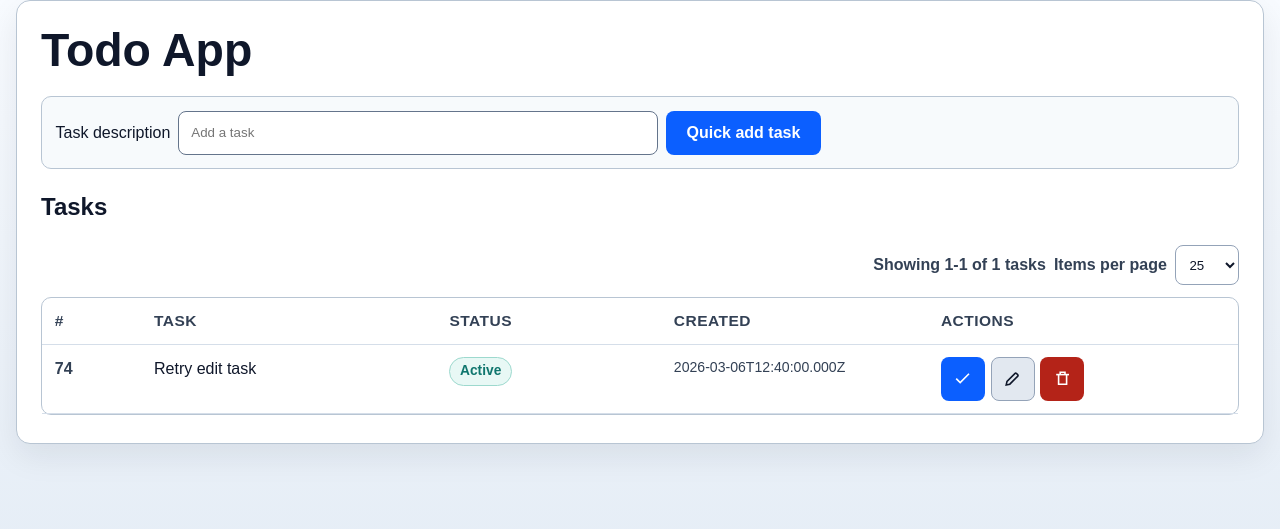
Test: Task list and quick-add flows › rolls back failed inline edit and supports scoped retry
This screenshot has width=1280, height=529.
Expected: the text "Retry edit task" is shown, [154,360,256,377]
Click the button named "Edit task \"Retry edit task\"" at (1012, 379), box [990,357,1034,401]
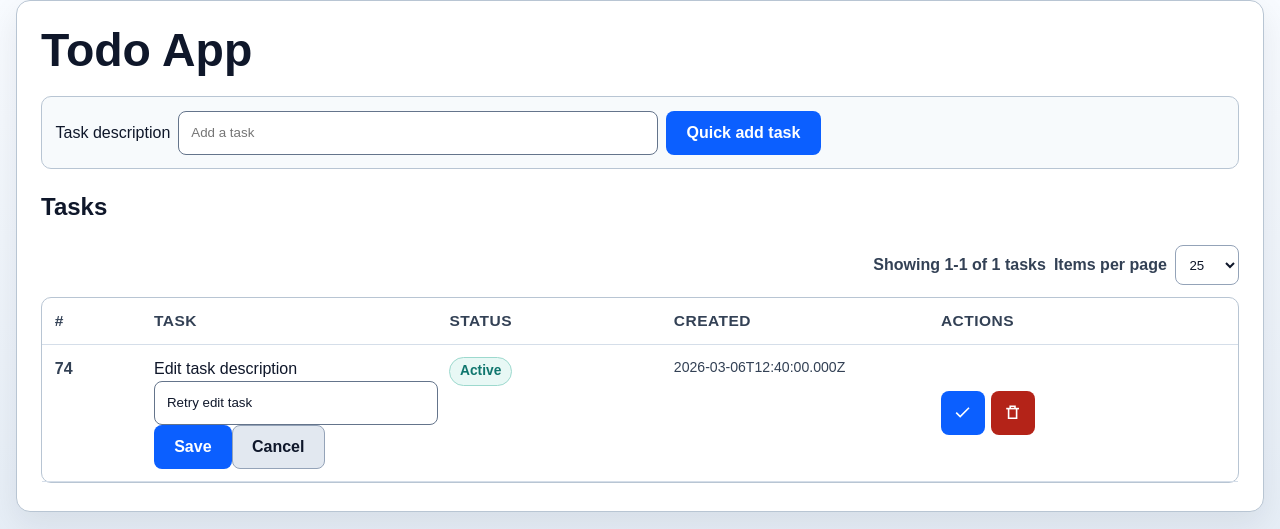
Replace the text in the field named "Edit description for task \"Retry edit task\"" with "Retry edit task updated" at (296, 403), box [154,381,438,425]
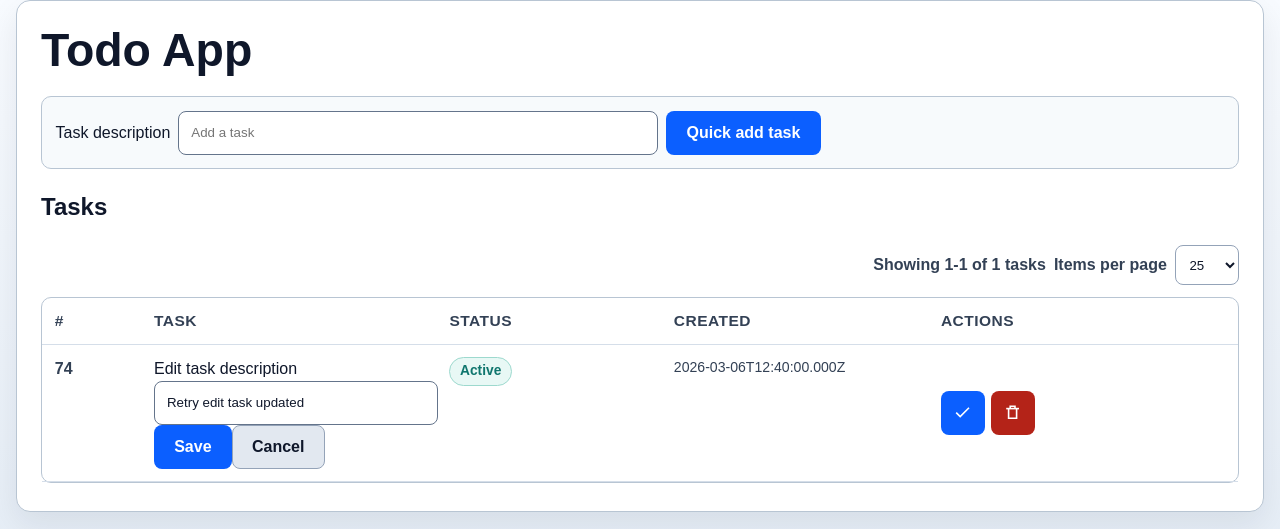
Click the button "Save" at (193, 447), box [154,425,232,469]
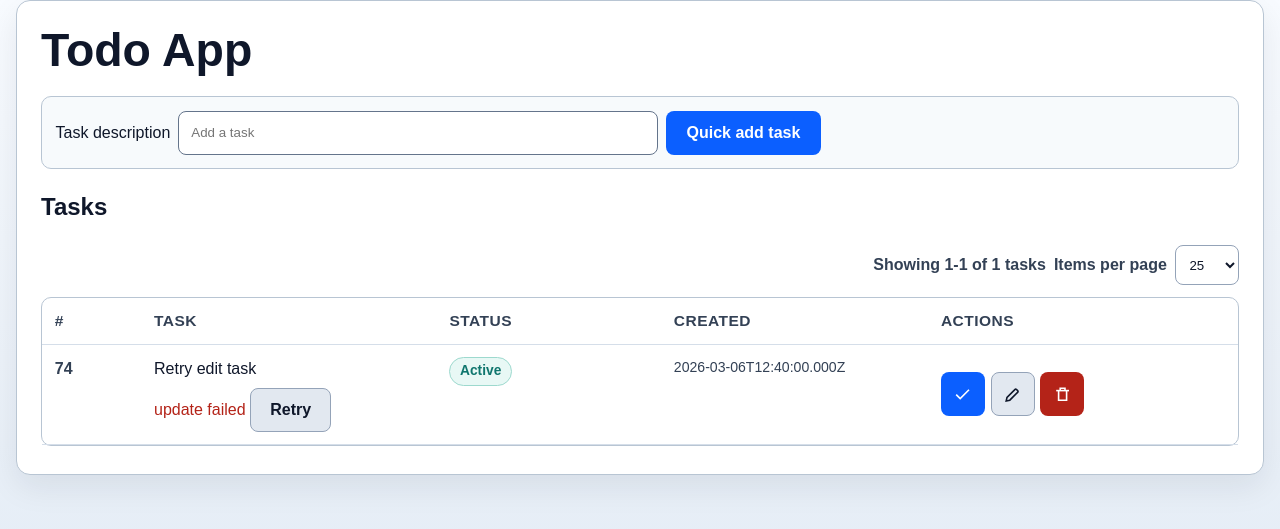
Expected: the message shows "update failed", [154,401,246,418]
Expected: the text "Retry edit task" is shown, [154,360,256,377]
Click the button named "Retry edit task \"Retry edit task\"" at (291, 410), box [250,388,331,432]
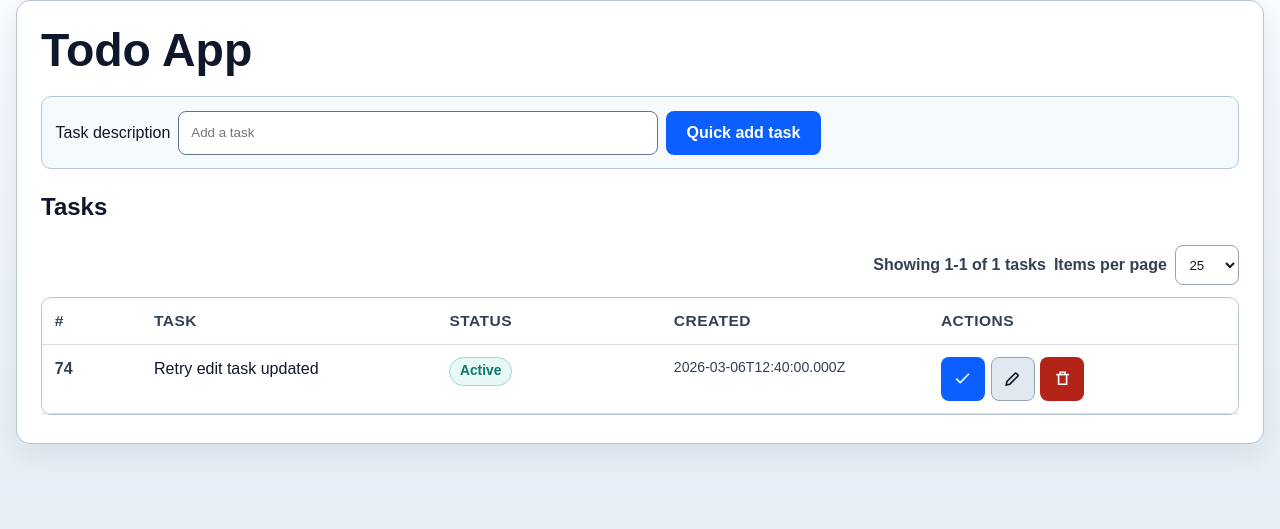
Expected: the text "Retry edit task updated" is shown, [154,360,318,377]
